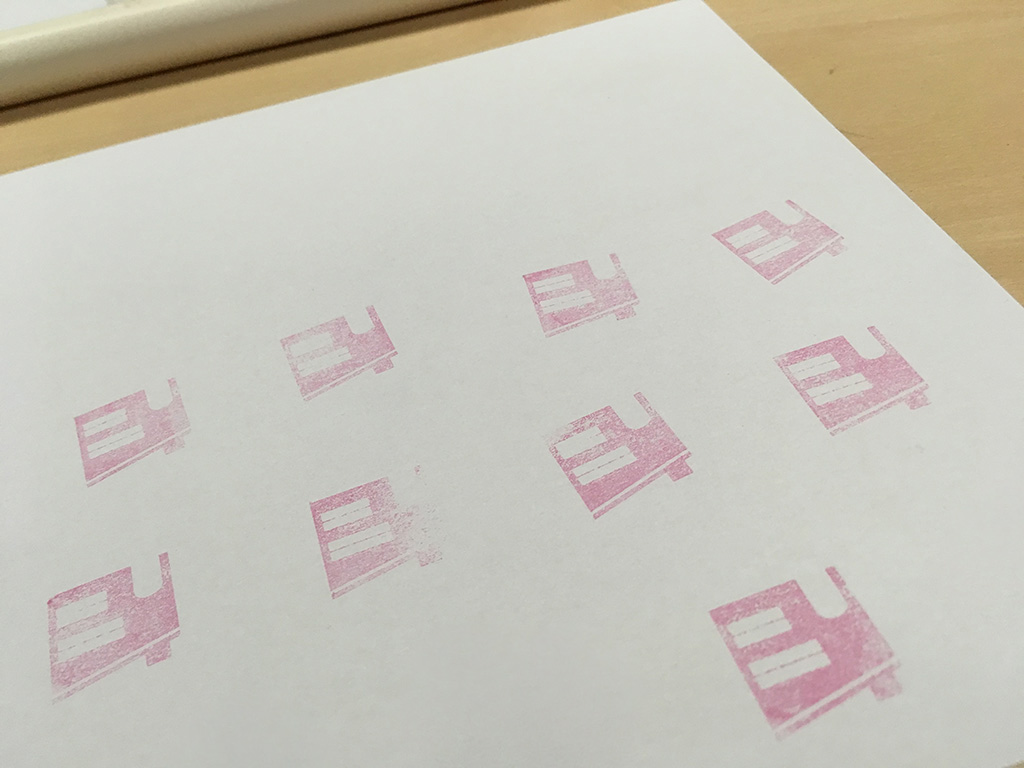house: (690, 563, 917, 745), (31, 548, 193, 710), (536, 385, 707, 531), (303, 458, 458, 606), (766, 322, 940, 446), (699, 181, 860, 294), (64, 370, 203, 492), (271, 292, 408, 412), (517, 250, 648, 345)
